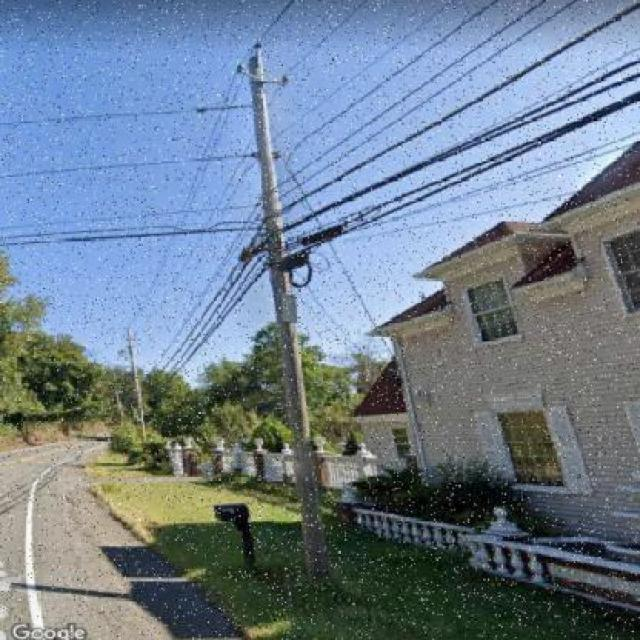pole: (242, 43, 331, 583)
wire: (159, 0, 640, 373), (163, 58, 640, 386), (154, 0, 553, 371), (158, 90, 640, 385), (279, 0, 502, 175), (0, 105, 246, 132), (0, 222, 260, 245)
